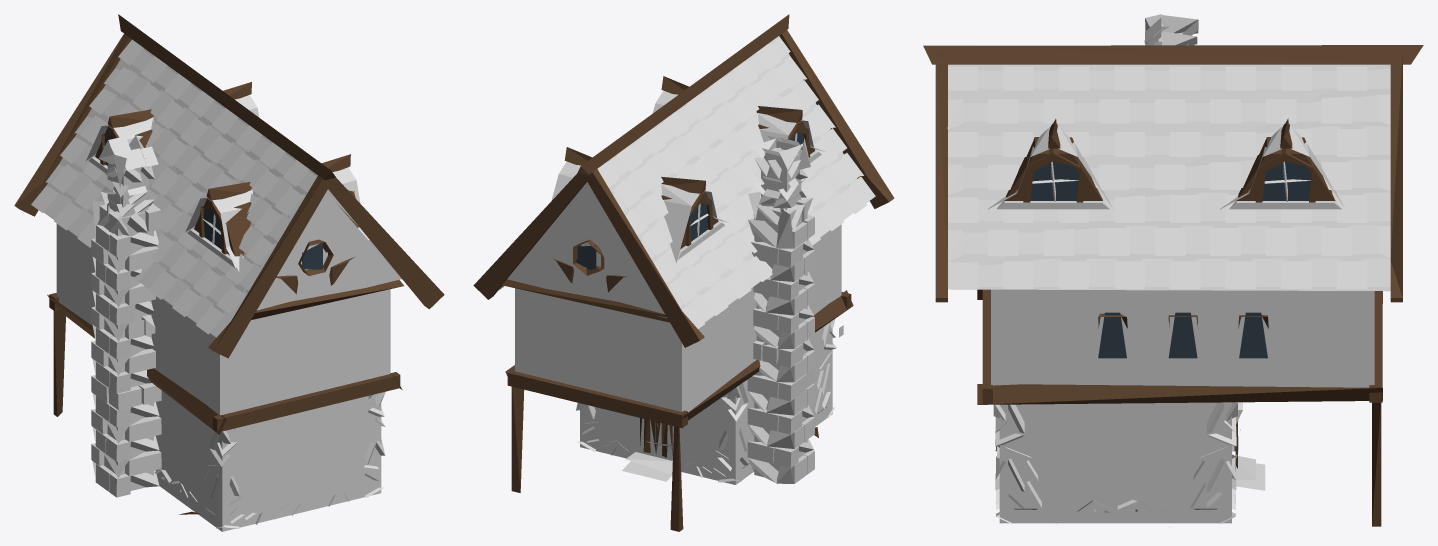
The model's file is mv_house2.glb.
The picture shows the model from 3 angles, left to right: view 1: azimuth 30°, elevation 25°; view 2: azimuth 150°, elevation 25°; view 3: azimuth 270°, elevation 25°; orthographic projection. The views are drawn at different scales.
Parts seen in each view (by area): view 1: S_House_2; view 2: S_House_2; view 3: S_House_2.
Part boxes in pixels (x1,y1,x2,y2): S_House_2: (14, 14, 444, 531); S_House_2: (473, 14, 894, 531); S_House_2: (923, 14, 1423, 526).
Size of the model in its own units: 2.22 by 3.25 by 3.42.
